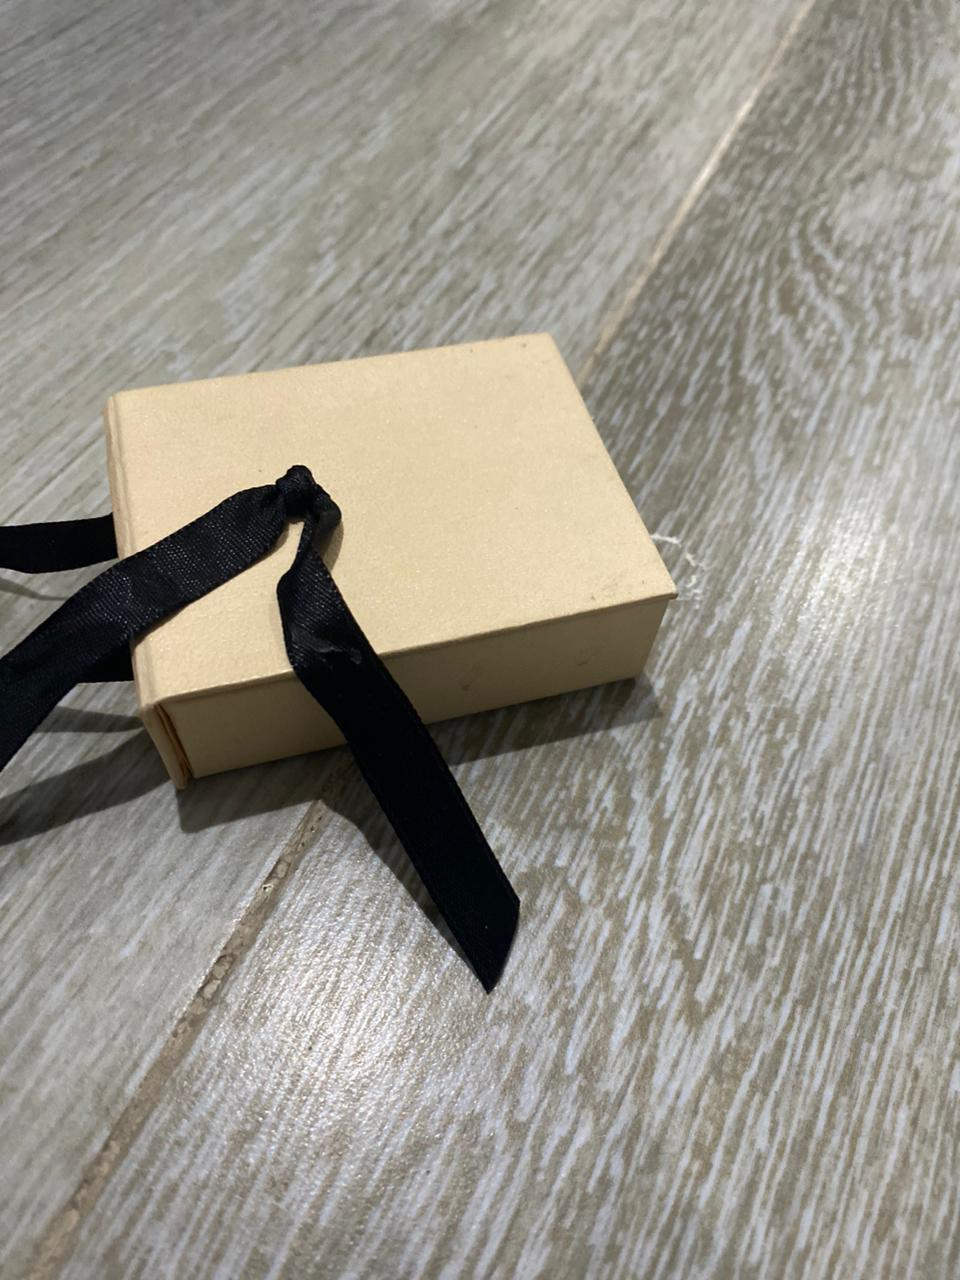Yellow Box: (88, 327, 686, 801)
